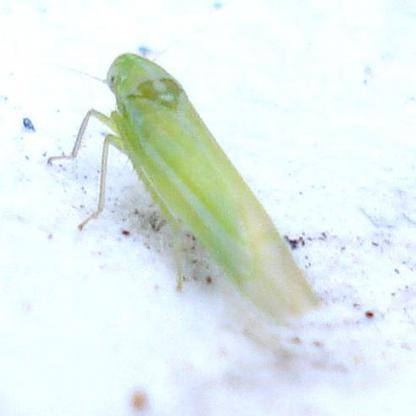green-leafhopper: (104, 55, 323, 317)
